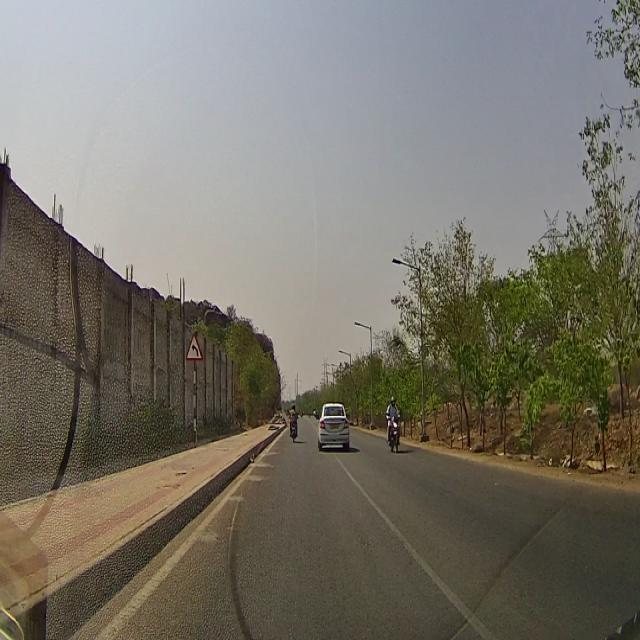left-hand-curve: (182, 331, 204, 360)
